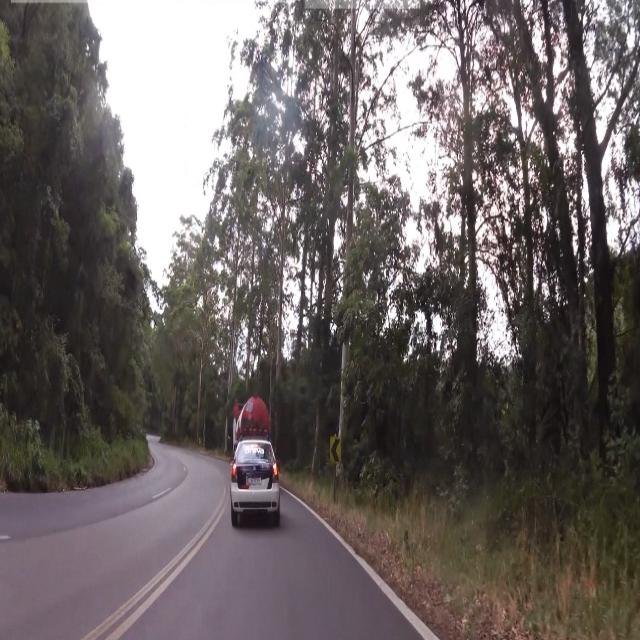Del: (329, 436, 342, 466)
